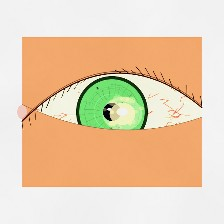corneal_ulcer: (102, 97, 143, 131)
